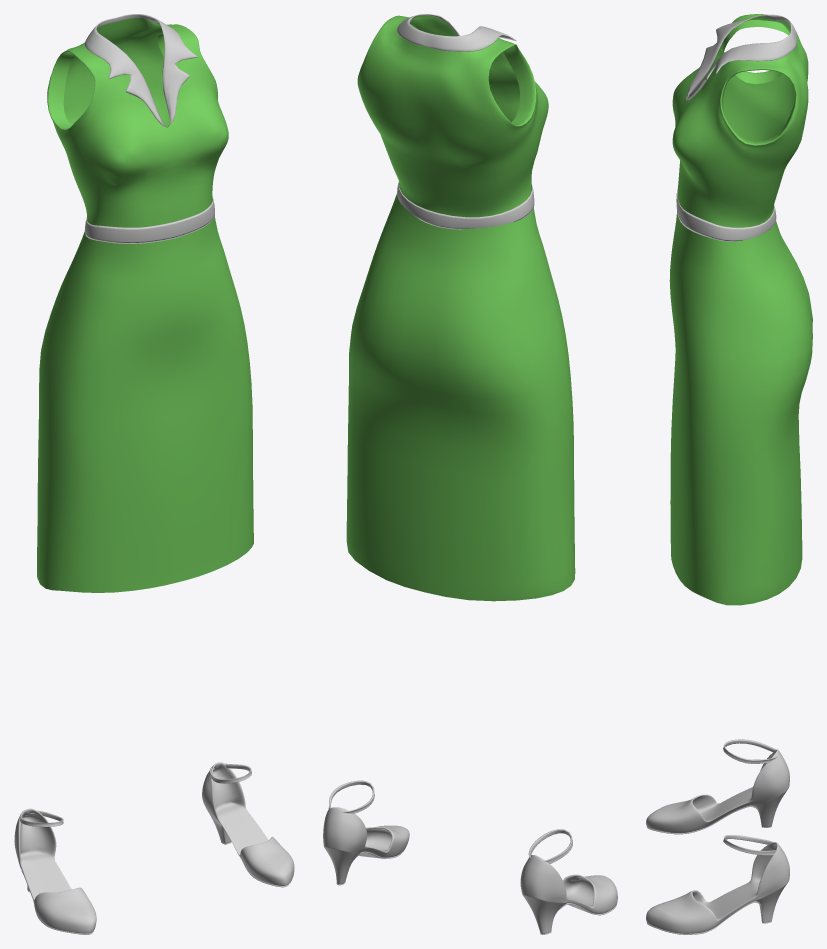
Rendered from nvquntao8.obj.
3 renders of one model, left to right at view 1: azimuth 30°, elevation 25°; view 2: azimuth 150°, elevation 25°; view 3: azimuth 270°, elevation 25°, orthographic. The views are drawn at different scales.
Visible parts, largest first — view 1: nvquntao2; view 2: nvquntao2; view 3: nvquntao2.
Part boxes in pixels (<box>): nvquntao2: <box>14,14,294,934</box>; nvquntao2: <box>323,14,617,934</box>; nvquntao2: <box>646,14,812,934</box>.
Bounding box in the file's own units: 1.68 × 5.51 × 0.9827.
